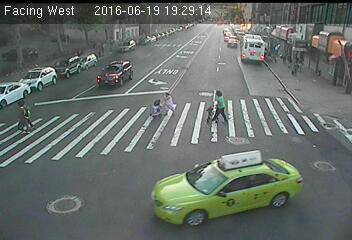neg: (228, 170, 248, 195), (238, 142, 255, 164), (147, 100, 163, 122), (115, 69, 128, 86), (91, 67, 104, 84), (257, 44, 270, 60), (227, 27, 233, 35)
pos: (201, 85, 238, 134), (4, 95, 32, 133), (156, 88, 178, 117)
